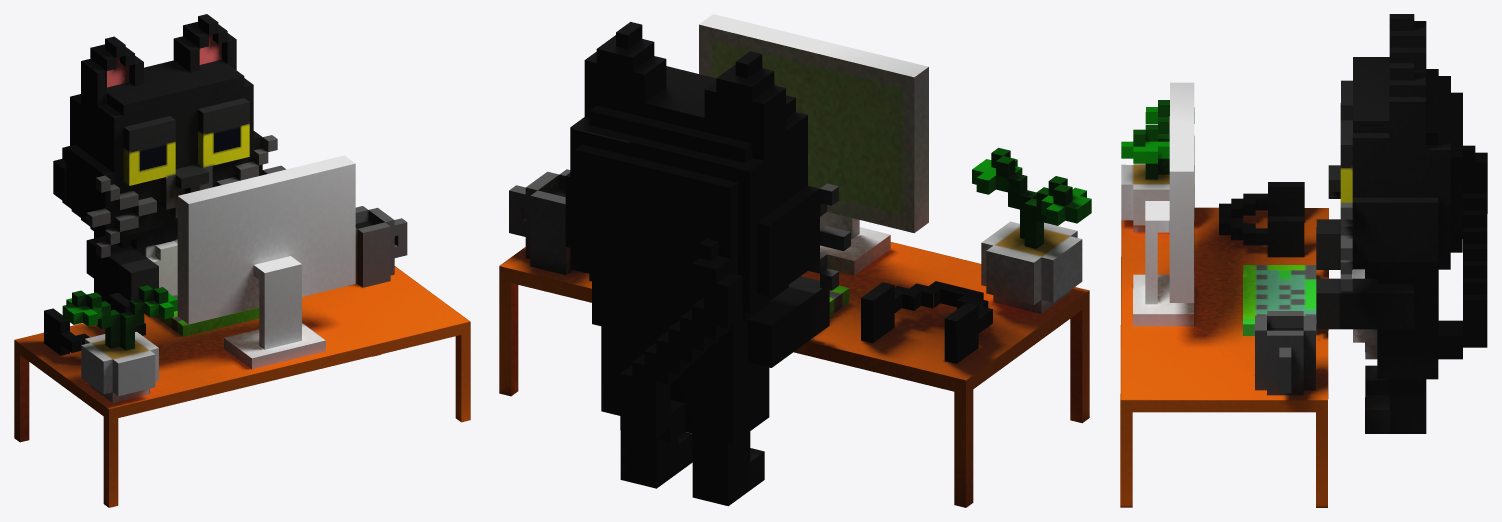
Rendered from cat.glb.
The picture shows the model from 3 angles, left to right: view 1: azimuth 30°, elevation 25°; view 2: azimuth 150°, elevation 25°; view 3: azimuth 270°, elevation 25°; orthographic projection. The views are drawn at different scales.
Parts seen in each view (by area): view 1: cat; view 2: cat; view 3: cat.
Part boxes in pixels (left/top/right/bottom): cat: left=14, top=14, right=470, bottom=507; cat: left=499, top=14, right=1091, bottom=507; cat: left=1120, top=14, right=1487, bottom=507.
Bounding box in the file's own units: 7.61 × 6.35 × 5.69.
Materials: 1 (1 with a texture image).
